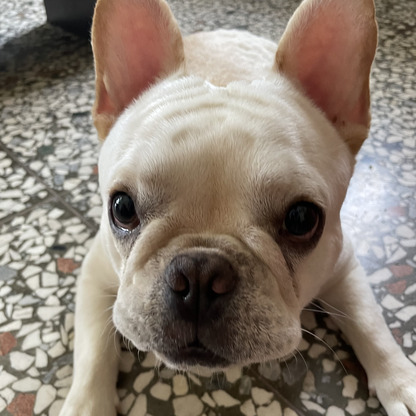bulldog: (51, 1, 416, 414)
